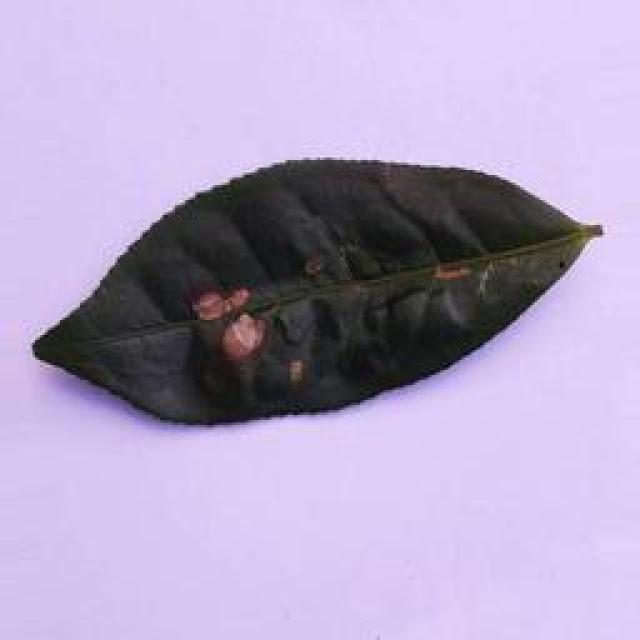Gray Blight: (30, 153, 593, 432)
